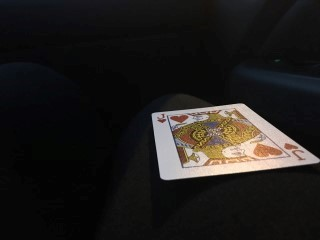JackOfHearts: (151, 101, 319, 181)
